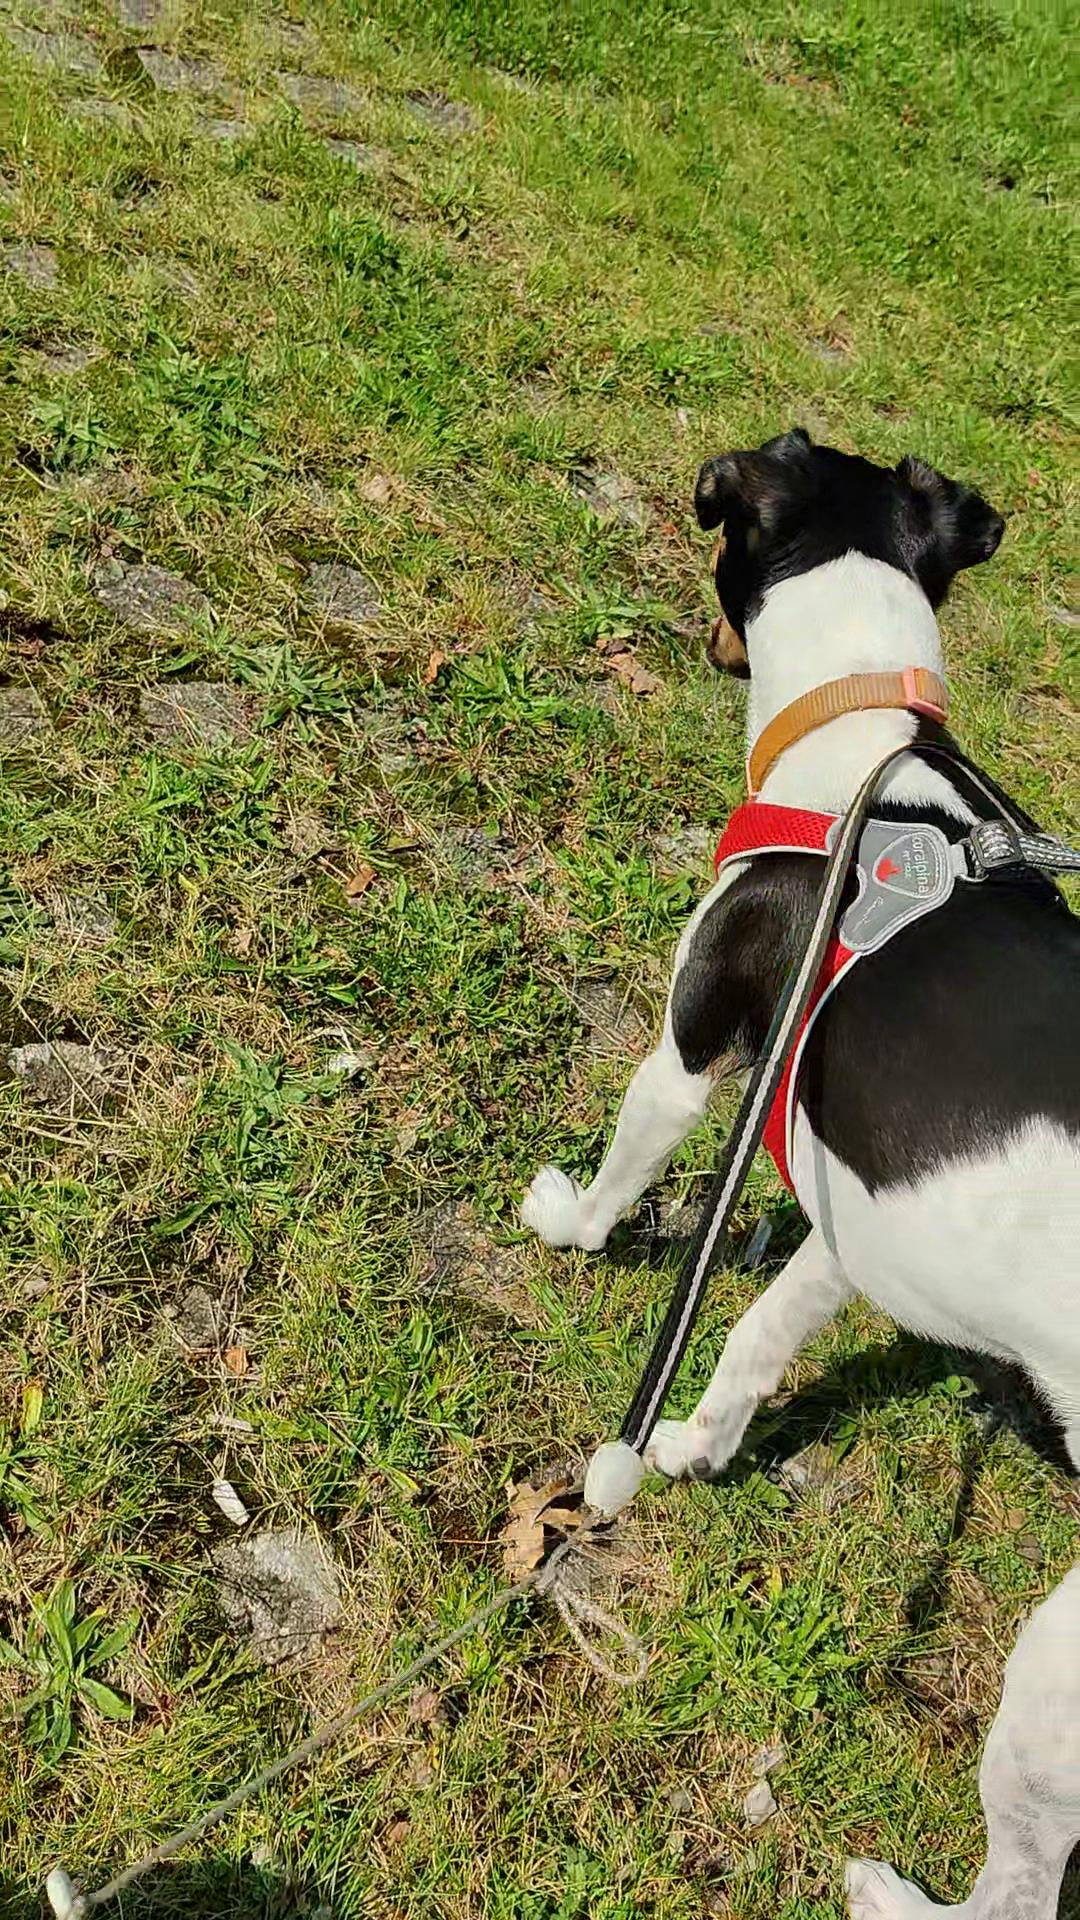Dog: (501, 407, 1079, 1919)
